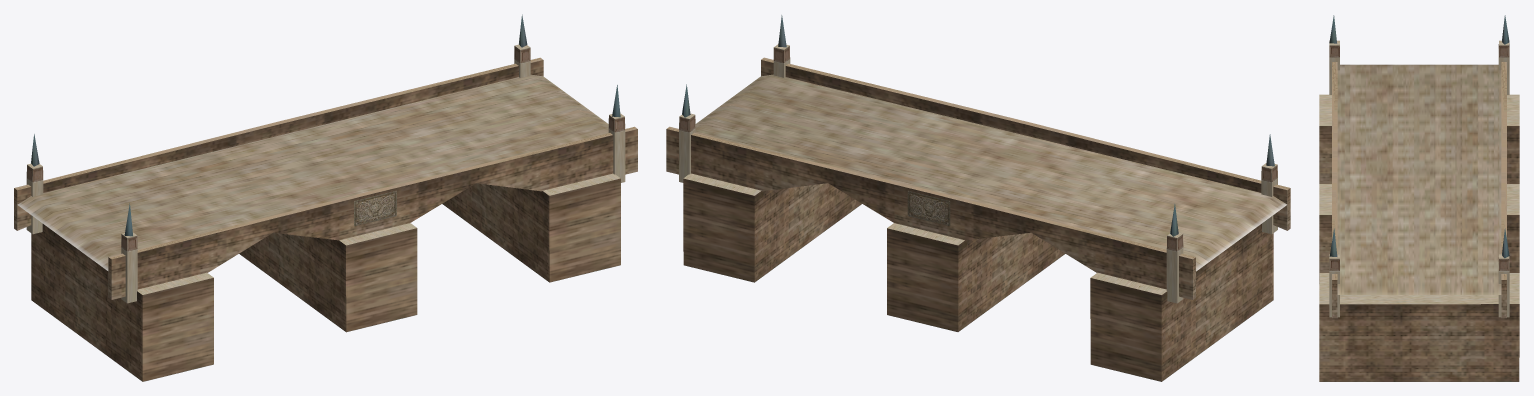
Rendered from thm_nboo_thed_imprv_bridge_s01_l3.fbx.
3 views of the same model, side by side, from view 1: azimuth 30°, elevation 25°; view 2: azimuth 150°, elevation 25°; view 3: azimuth 270°, elevation 25° (orthographic). The views are drawn at different scales.
Parts seen in each view (by area): view 1: mesh_node; view 2: mesh_node; view 3: mesh_node.
Boxes of the visible parts, x1,y1,x2,y2 form: mesh_node: (14, 14, 637, 381); mesh_node: (666, 15, 1290, 381); mesh_node: (1319, 15, 1519, 381).
Size of the model in its own units: 50 by 15.84 by 18.38.
1 material, 1 textured.
